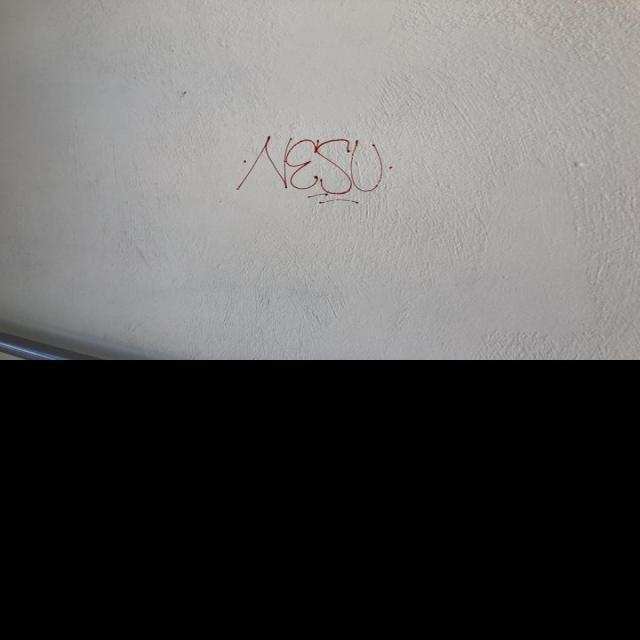nonspitting: (238, 134, 398, 206)
